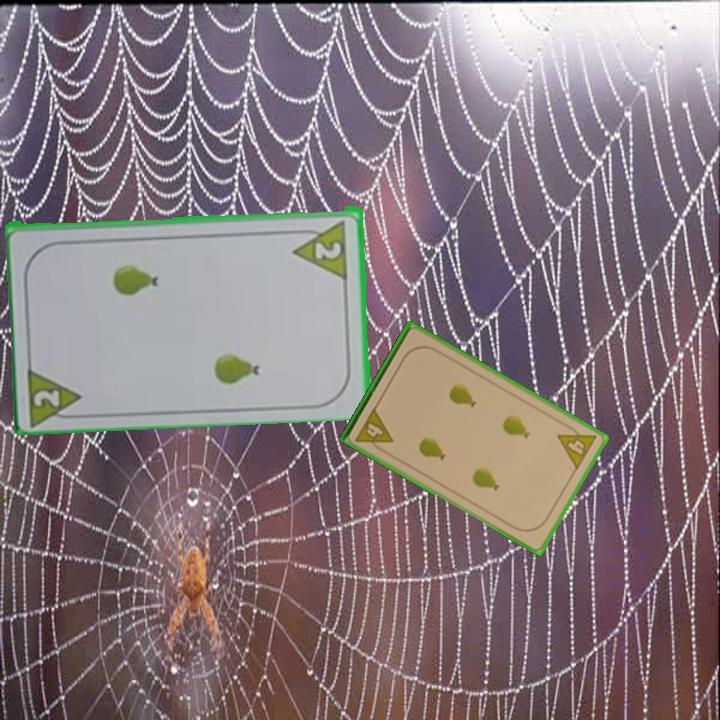2p: (24, 360, 87, 426), (290, 215, 351, 279)
4p: (554, 419, 599, 473), (352, 404, 396, 456)
